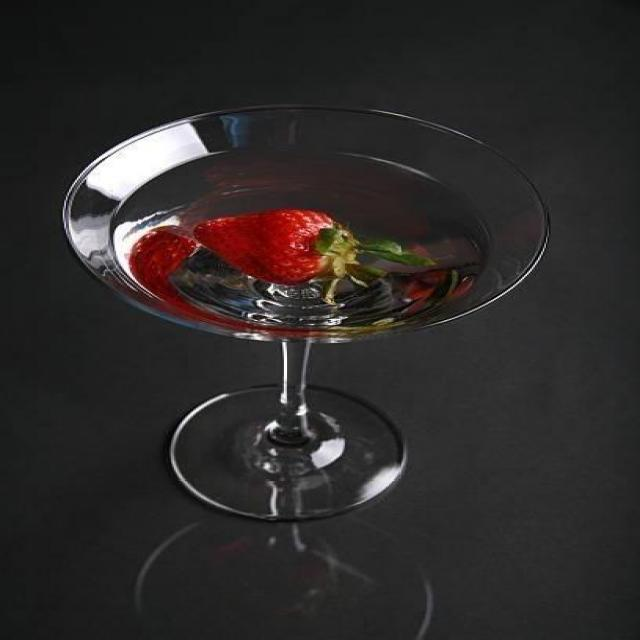glass-wine: (59, 102, 550, 523)
